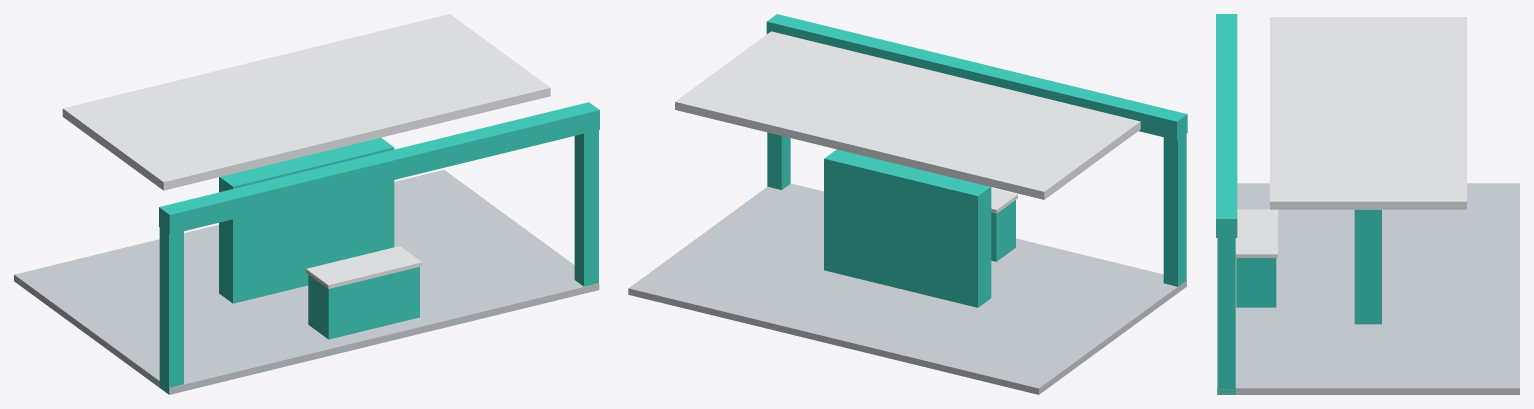
3 renders of one model, left to right at view 1: azimuth 30°, elevation 25°; view 2: azimuth 150°, elevation 25°; view 3: azimuth 270°, elevation 25°, orthographic. The views are drawn at different scales.
Visible parts, largest first — view 1: Exhibition Booth Concept; view 2: Exhibition Booth Concept; view 3: Exhibition Booth Concept.
Part boxes in pixels (x1,y1,x2,y2): Exhibition Booth Concept: (14, 14, 599, 394); Exhibition Booth Concept: (628, 14, 1187, 394); Exhibition Booth Concept: (1216, 14, 1519, 394).
Bounding box in the file's own units: 8 × 3.34 × 5.02.
